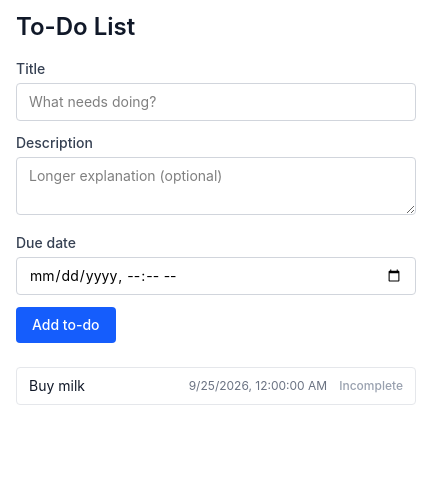
TodoListRoute › keeps the form and shows a field error when the server rejects the submission
Check: the link "Buy milk" is shown, box [29, 377, 85, 394]
Type "Overdue task" into the field labelled "Title" at (216, 102), box [16, 83, 416, 121]
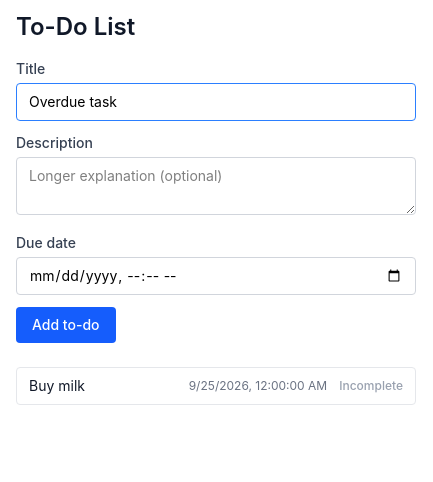
Click the button "Add to-do" at (66, 325), box [16, 307, 116, 343]
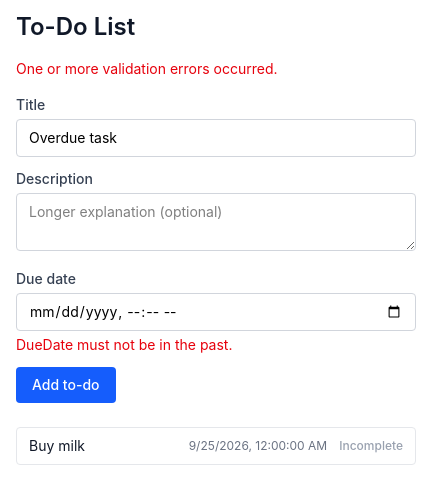
Check: the text "DueDate must not be in the past." is shown, box [16, 336, 232, 353]
